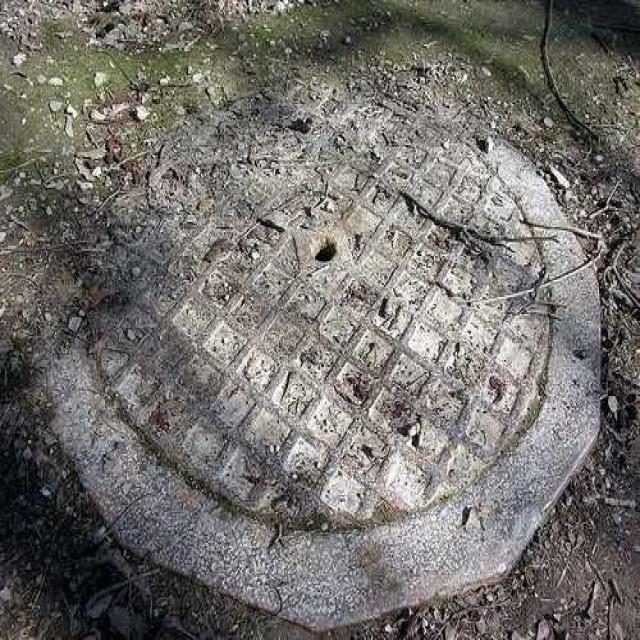manhole: (38, 24, 609, 635)
